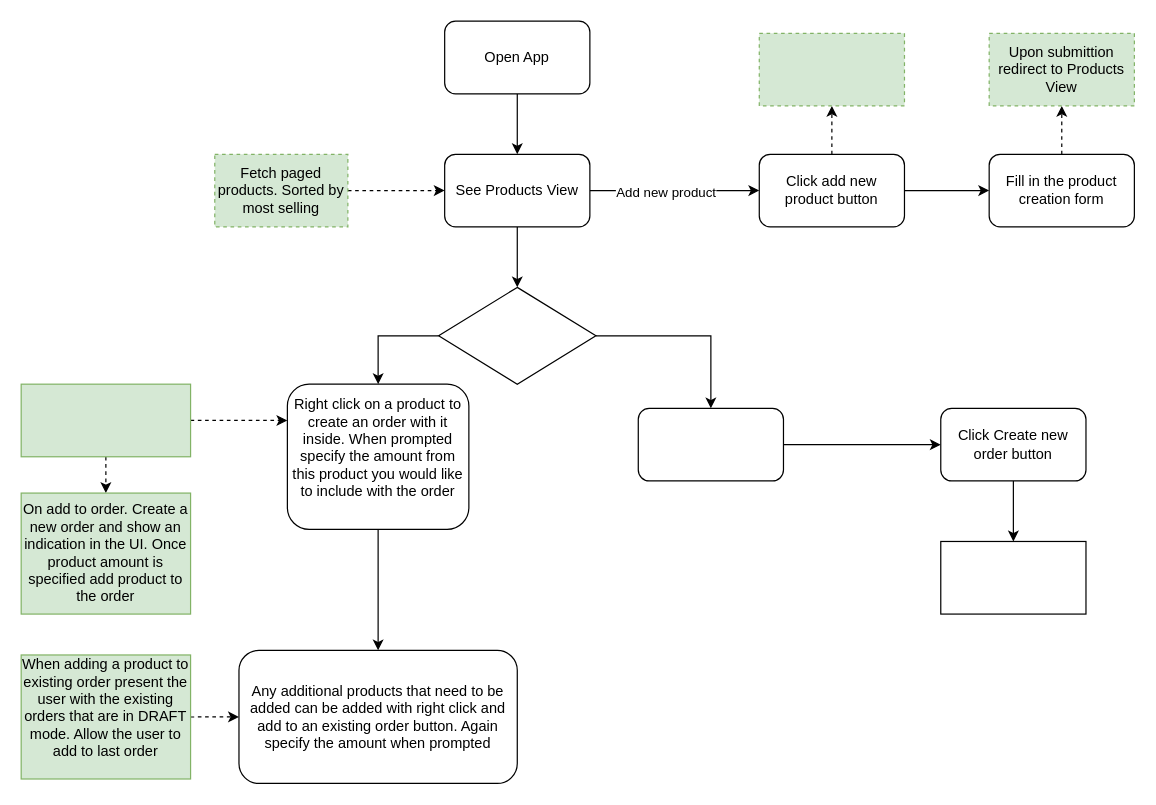
This 1156x805 diagram has some shape labels left out. Each missing label, with the box of its shape:
Go to Orders View: (637, 407, 783, 481)
Produce new order: (437, 286, 596, 384)
Render Product creation form: (758, 32, 904, 106)
TBD: (940, 540, 1086, 614)
Upon right click on a product show product actions (including add to order): (20, 383, 191, 457)
